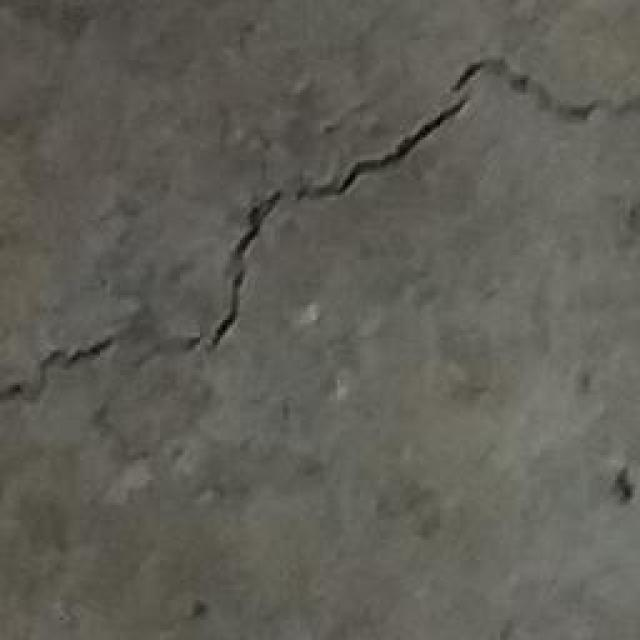Diagonal: (0, 47, 640, 414)
